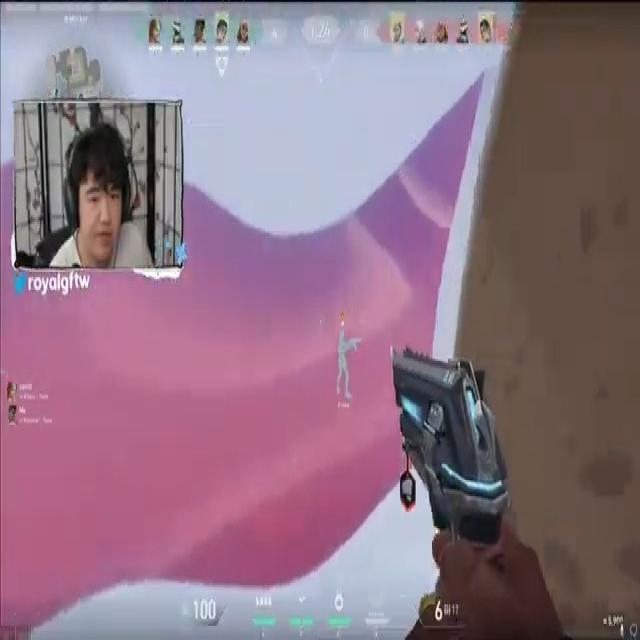ally behind wall: (334, 320, 367, 399)
